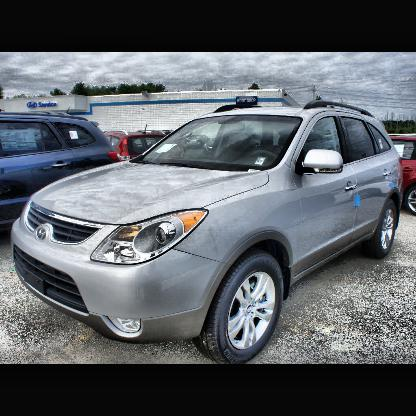Hyundai Veracruz SUV 2012: (13, 99, 407, 363)
